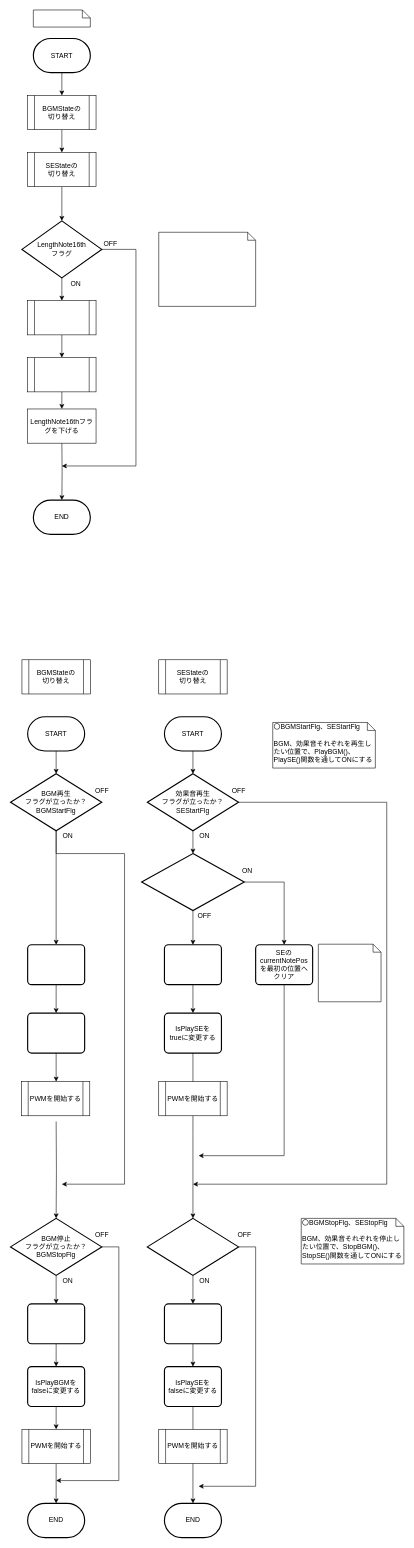
Some shapes in this 414 by 1548 pixel diagram are drawn without their labels. The shapes that lost their labels are listed below. From the top down, each one's centre as x and y in pixels, then its label:
(x=61, y=18): ブザーの更新
(x=207, y=269): LengthNote16thフラグ ブザーの更新シートで16分音符分の時間経過を確認するために使用 タイマでフラグがONになる ブザーの更新シートでOFFになる
(x=61, y=317): BGMManagerを更新
(x=61, y=374): SEManagerを更新
(x=193, y=882): 現在再生されているか？ IsPlaySE
(x=56, y=964): BGMStartFlgを 下げる
(x=193, y=964): SEStartFlgを 下げる
(x=349, y=973): 既に再生されている時に、再度効果音が再生しようとした時の挙動 再生位置を最初にする
(x=56, y=1032): IsPlayBGMを trueに変更する
(x=192, y=1247): 効果音停止 フラグが立ったか？ SEStopFlg
(x=56, y=1323): BGMStopFlgを 下げる
(x=193, y=1323): SEStopFlgを 下げる
